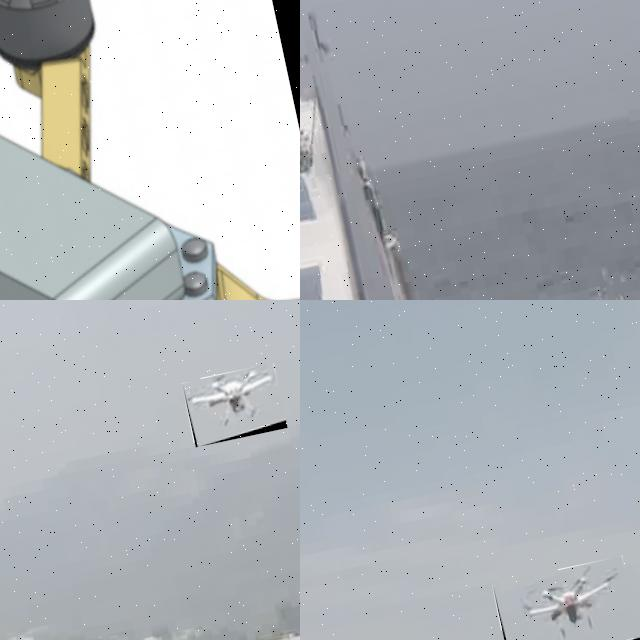drone: (0, 0, 300, 300), (492, 555, 640, 640), (182, 362, 288, 448)
